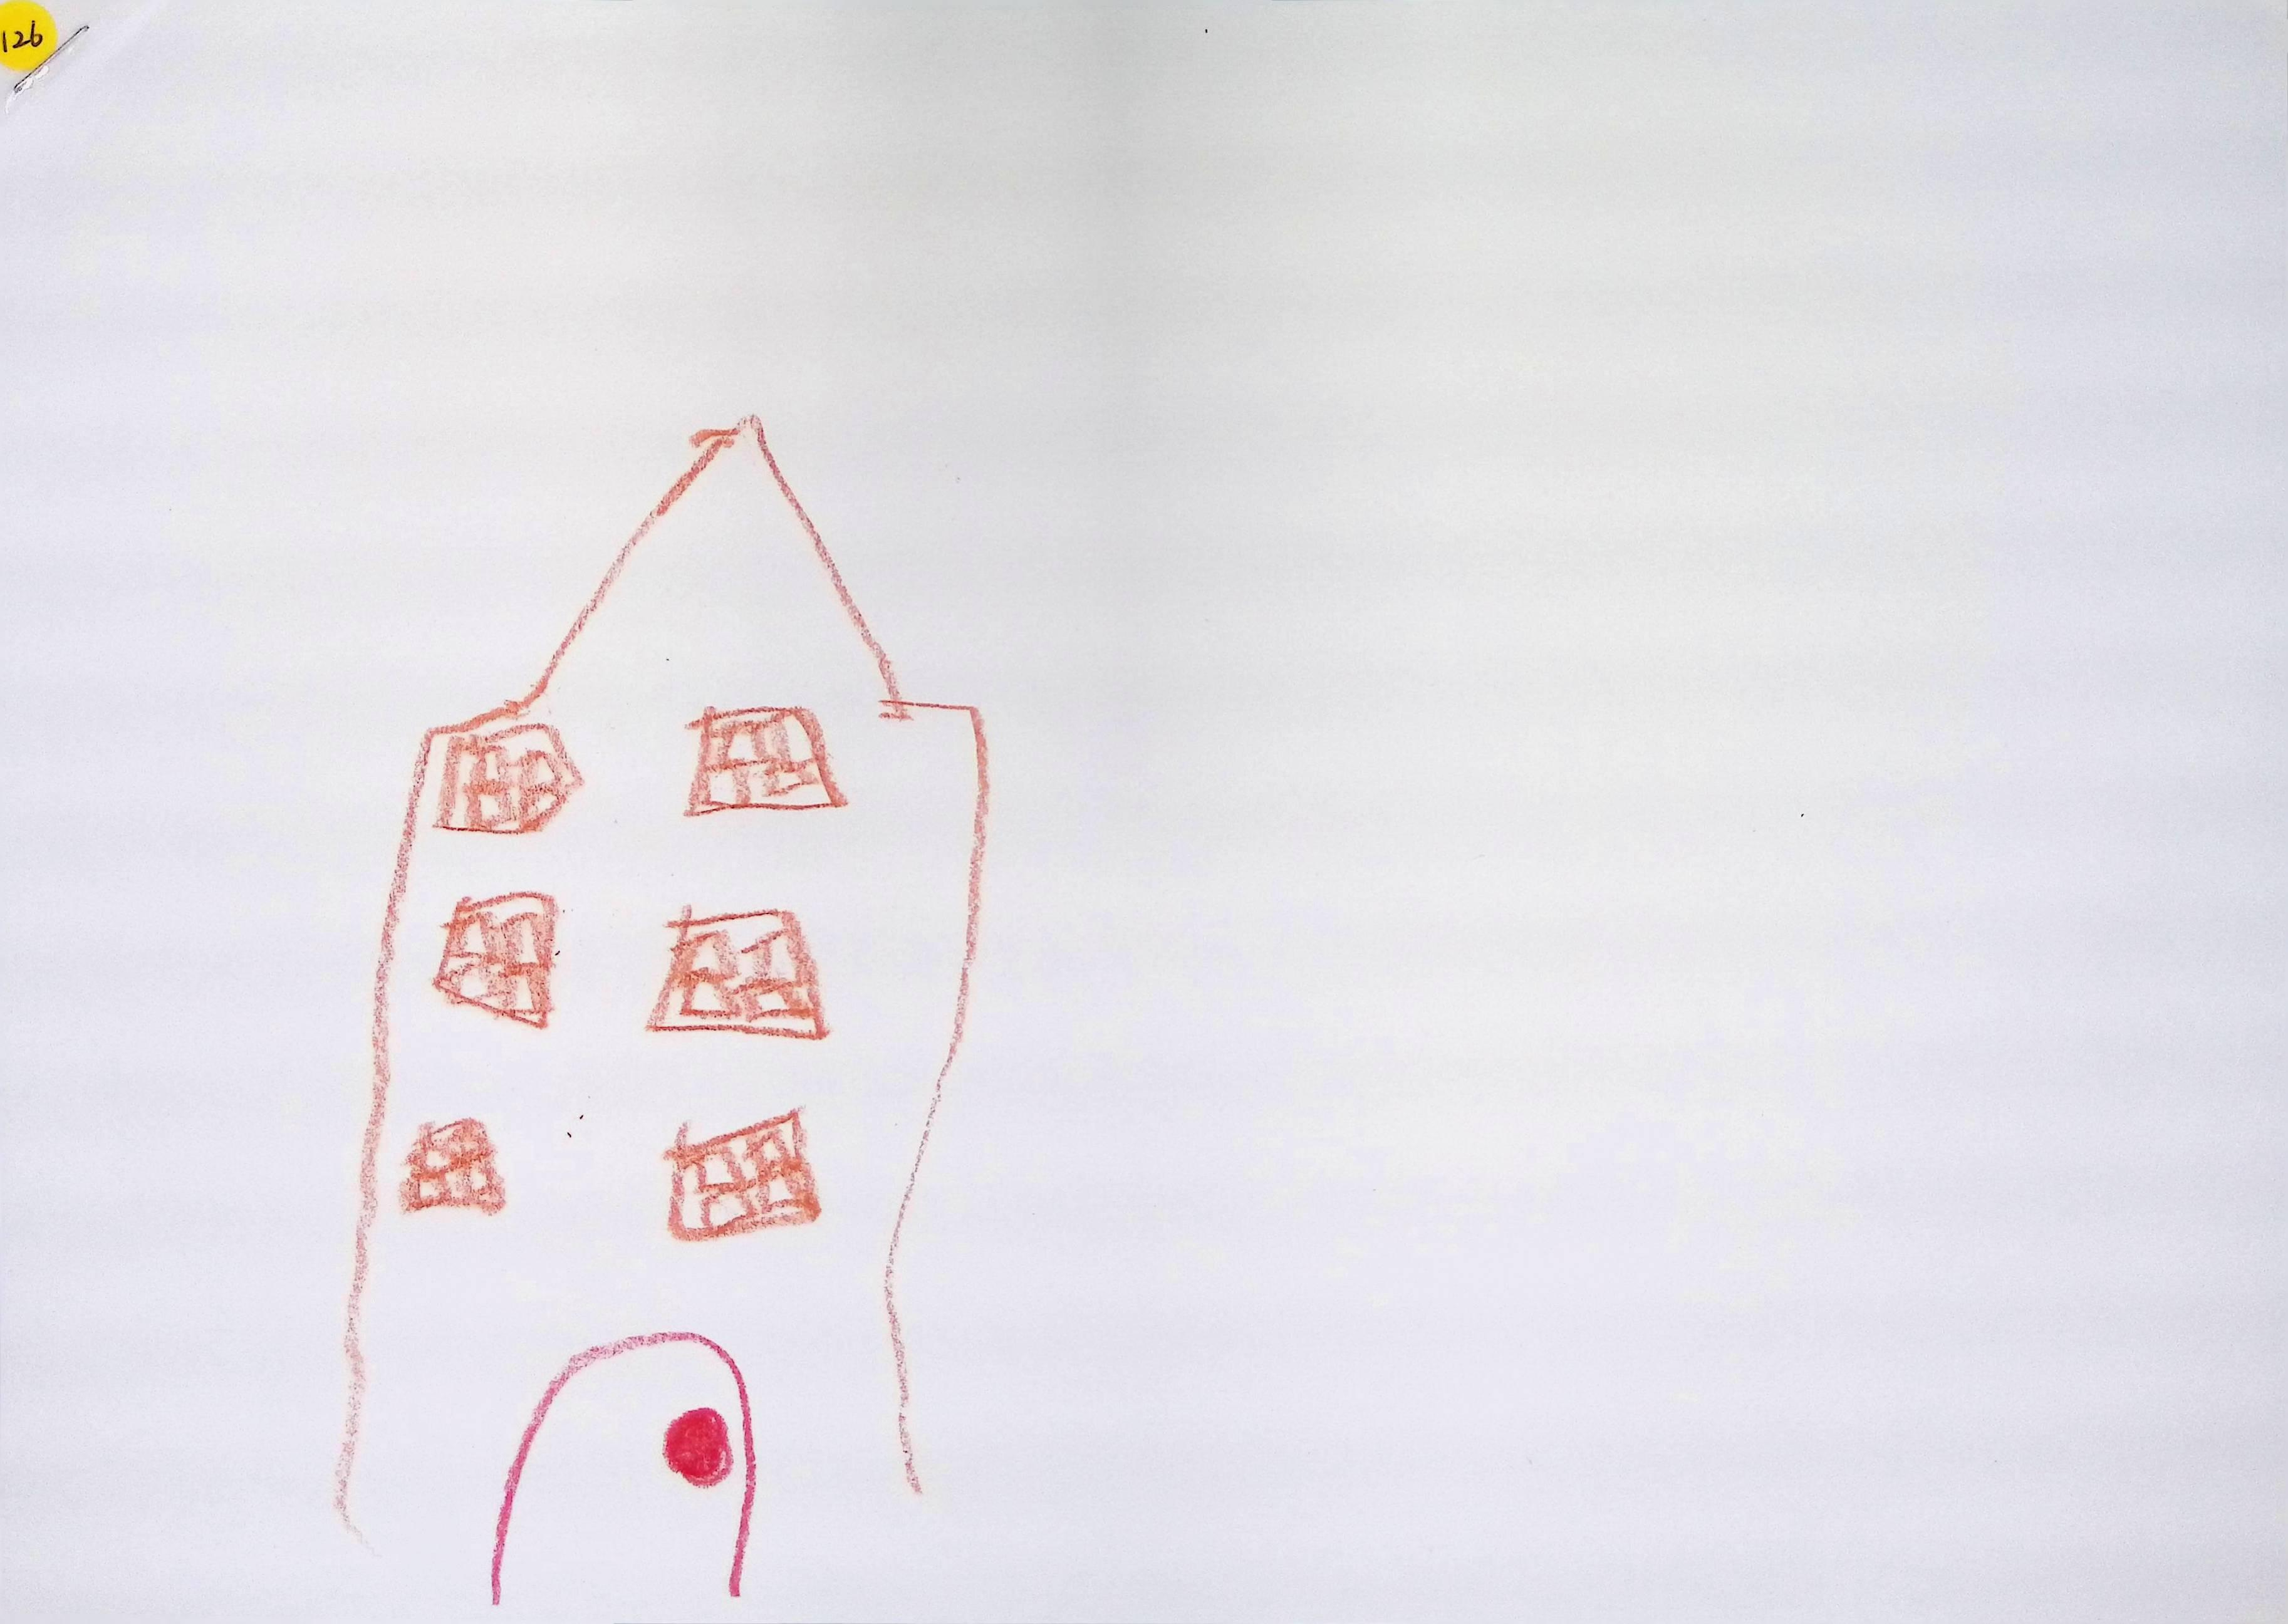door: (494, 1336, 745, 1622)
house: (330, 415, 991, 1617)
roof: (511, 411, 910, 712)
wall: (329, 703, 979, 1624)
window: (647, 909, 826, 1039), (663, 1113, 819, 1241), (685, 707, 845, 814), (432, 893, 554, 1028), (432, 722, 580, 833), (399, 1118, 503, 1214)
